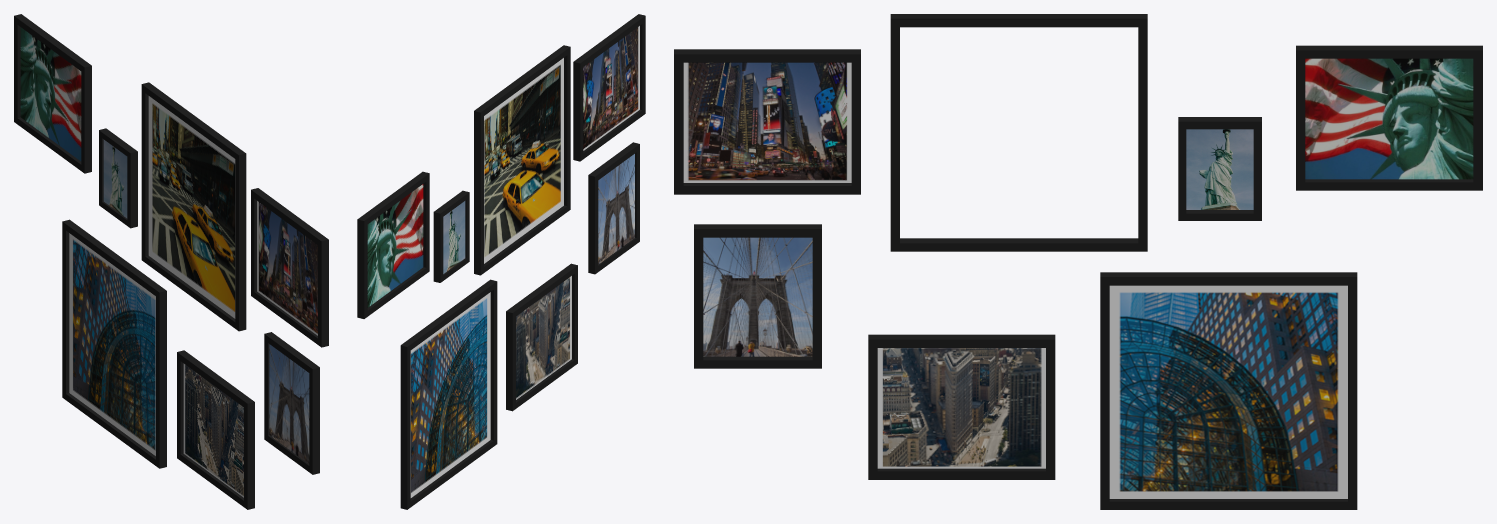
Rendered from Pictures 2.FBX.
3 renders of one model, left to right at view 1: azimuth 30°, elevation 25°; view 2: azimuth 150°, elevation 25°; view 3: azimuth 270°, elevation 25°, orthographic. The views are drawn at different scales.
Parts seen in each view (by area): view 1: picture 2, picture 7, picture 1, picture 4, picture 6, picture 5, picture 3; view 2: picture 7, picture 2, picture 4, picture 1, picture 6, picture 5, picture 3; view 3: picture 7, picture 6, picture 1, picture 4, picture 5, picture 2, picture 3.
Part boxes in pixels (box(x1,y1,x2,y2)): picture 2: box(141, 82, 246, 331); picture 7: box(62, 219, 166, 468); picture 1: box(251, 188, 328, 347); picture 4: box(14, 14, 91, 173); picture 6: box(177, 350, 254, 509); picture 5: box(264, 332, 319, 474); picture 3: box(99, 128, 137, 228); picture 7: box(400, 279, 497, 509); picture 2: box(474, 45, 570, 275); picture 4: box(357, 171, 429, 318); picture 1: box(573, 14, 645, 161); picture 6: box(506, 263, 577, 411); picture 5: box(588, 142, 639, 274); picture 3: box(433, 190, 469, 282); picture 7: box(1100, 272, 1357, 509); picture 6: box(868, 334, 1055, 479); picture 1: box(674, 49, 860, 194); picture 4: box(1296, 45, 1482, 190); picture 5: box(694, 224, 821, 368); picture 2: box(890, 14, 1147, 251); picture 3: box(1178, 117, 1261, 220).
Size of the model in its own units: 2.5 by 98.04 by 146.
Materials: 2 (2 with a texture image).
